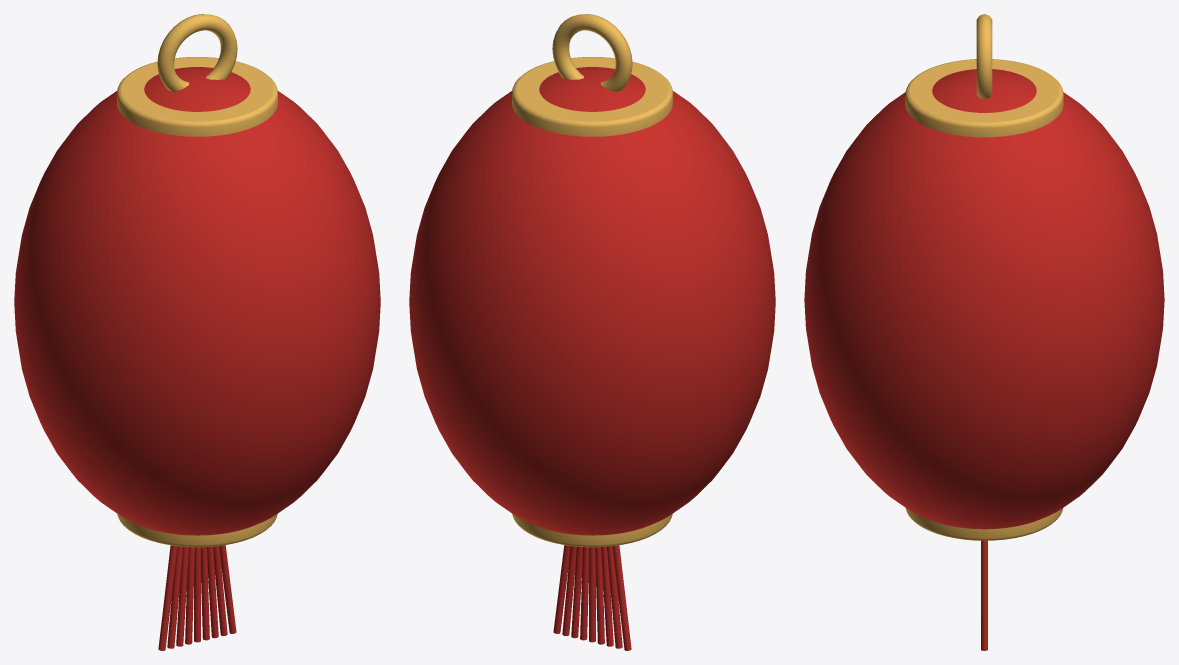
Rendered from stage-lantern.glb.
3 views of the same model, side by side, from view 1: azimuth 30°, elevation 25°; view 2: azimuth 150°, elevation 25°; view 3: azimuth 270°, elevation 25° (orthographic).
Visible parts, largest first — view 1: stage-lantern; view 2: stage-lantern; view 3: stage-lantern.
Boxes of the visible parts, x1,y1,x2,y2 form: stage-lantern: [14, 14, 380, 650]; stage-lantern: [409, 14, 775, 650]; stage-lantern: [804, 14, 1164, 650].
Bounding box in the file's own units: 1 × 1.88 × 1.
